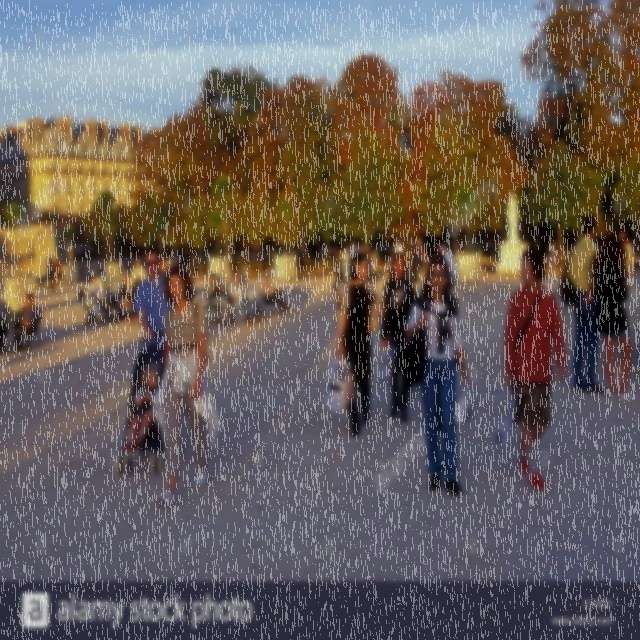pessoa: (148, 259, 222, 509), (403, 256, 473, 498), (503, 245, 568, 495), (336, 251, 386, 439), (558, 211, 608, 396), (591, 234, 639, 402), (380, 251, 418, 423), (119, 359, 169, 454), (132, 245, 174, 349), (430, 240, 468, 330), (10, 290, 45, 353), (227, 269, 266, 325), (205, 270, 238, 326), (126, 256, 148, 325), (257, 274, 293, 316), (430, 388, 458, 436), (77, 288, 112, 325), (89, 273, 118, 317), (503, 188, 522, 244), (358, 240, 378, 286), (0, 298, 16, 355), (404, 237, 420, 285), (414, 233, 430, 276), (332, 248, 347, 292), (546, 240, 561, 280), (624, 236, 634, 290), (52, 255, 65, 292), (45, 252, 57, 292), (119, 273, 136, 299), (616, 228, 634, 251), (342, 244, 352, 284), (298, 242, 308, 280), (347, 238, 362, 262), (328, 248, 336, 274), (160, 256, 170, 274), (394, 237, 404, 255), (385, 252, 395, 270), (78, 258, 86, 278)
